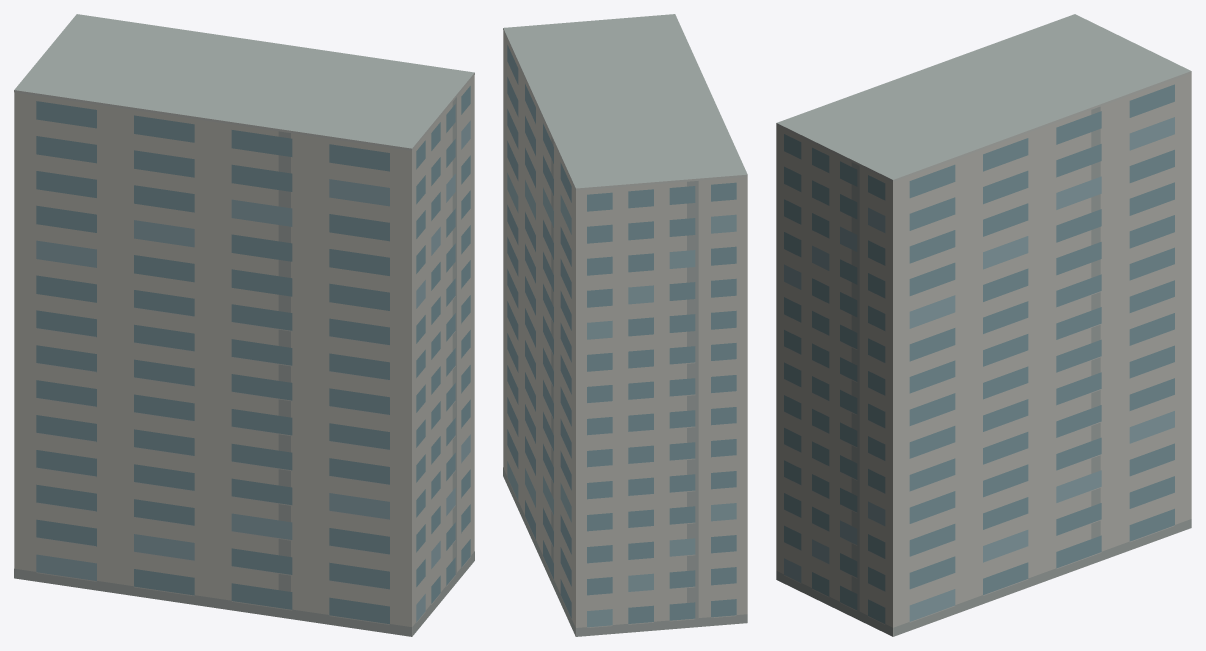
The model's file is residential-460482ec-9d35-44db-8889-083f275b5d6f.glb.
3 views of the same model, side by side, from view 1: azimuth 30°, elevation 25°; view 2: azimuth 150°, elevation 25°; view 3: azimuth 270°, elevation 25° (orthographic). The views are drawn at different scales.
Visible parts, largest first — view 1: residential-460482ec-9d35-44db-8889-083f275b5d6f.tmp; view 2: residential-460482ec-9d35-44db-8889-083f275b5d6f.tmp; view 3: residential-460482ec-9d35-44db-8889-083f275b5d6f.tmp.
Part boxes in pixels (x1,y1,x2,y2): residential-460482ec-9d35-44db-8889-083f275b5d6f.tmp: (14, 14, 474, 636); residential-460482ec-9d35-44db-8889-083f275b5d6f.tmp: (503, 14, 747, 636); residential-460482ec-9d35-44db-8889-083f275b5d6f.tmp: (776, 14, 1191, 636).
Bounding box in the file's own units: 38.96 × 50 × 41.16.
